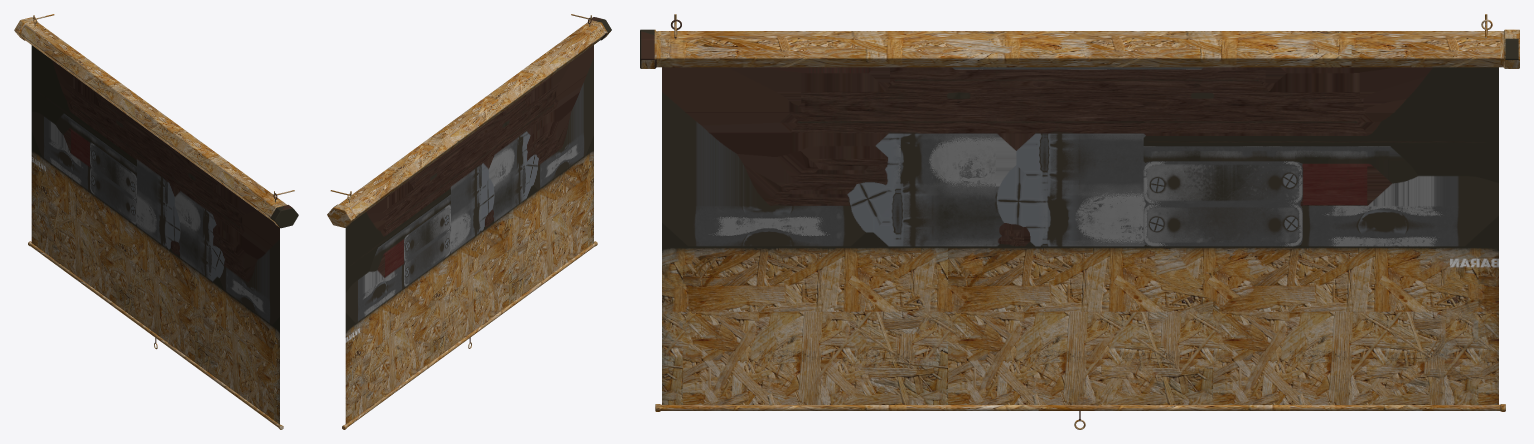
3 views of the same model, side by side, from view 1: azimuth 30°, elevation 25°; view 2: azimuth 150°, elevation 25°; view 3: azimuth 270°, elevation 25° (orthographic). The views are drawn at different scales.
Visible parts, largest first — view 1: Cylinder_1, Cylinder, Sweep_2_2; view 2: Cylinder_1, Cylinder, Sweep_2_2; view 3: Cylinder_1, Cylinder, Sweep_2_2.
Part boxes in pixels (x1,y1,x2,y2): Cylinder_1: [31, 45, 279, 424]; Cylinder: [14, 17, 298, 228]; Sweep_2_2: [28, 241, 283, 429]; Cylinder_1: [345, 45, 593, 424]; Cylinder: [327, 17, 611, 227]; Sweep_2_2: [342, 241, 597, 429]; Cylinder_1: [662, 67, 1498, 404]; Cylinder: [640, 29, 1519, 68]; Sweep_2_2: [655, 404, 1505, 411].
Bounding box in the file's own units: 0.5374 × 4.19 × 8.06.
